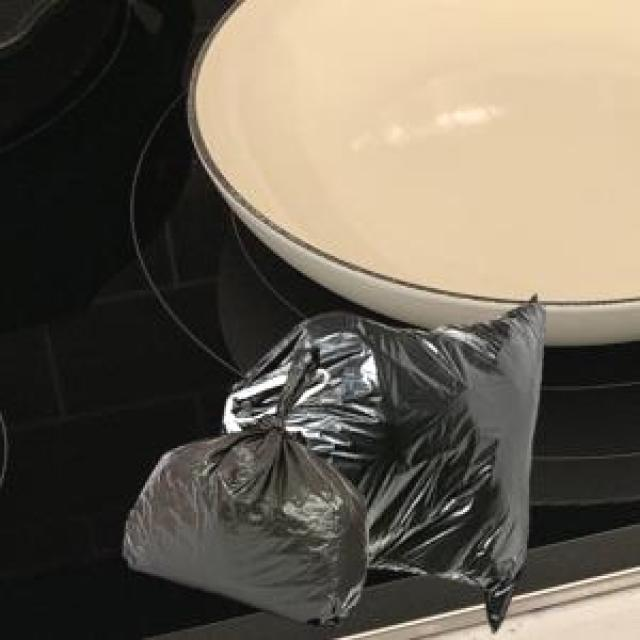Trashbag: (120, 416, 370, 628)
